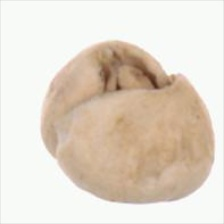L3: (92, 45, 182, 93)
L4: (39, 40, 216, 205)
